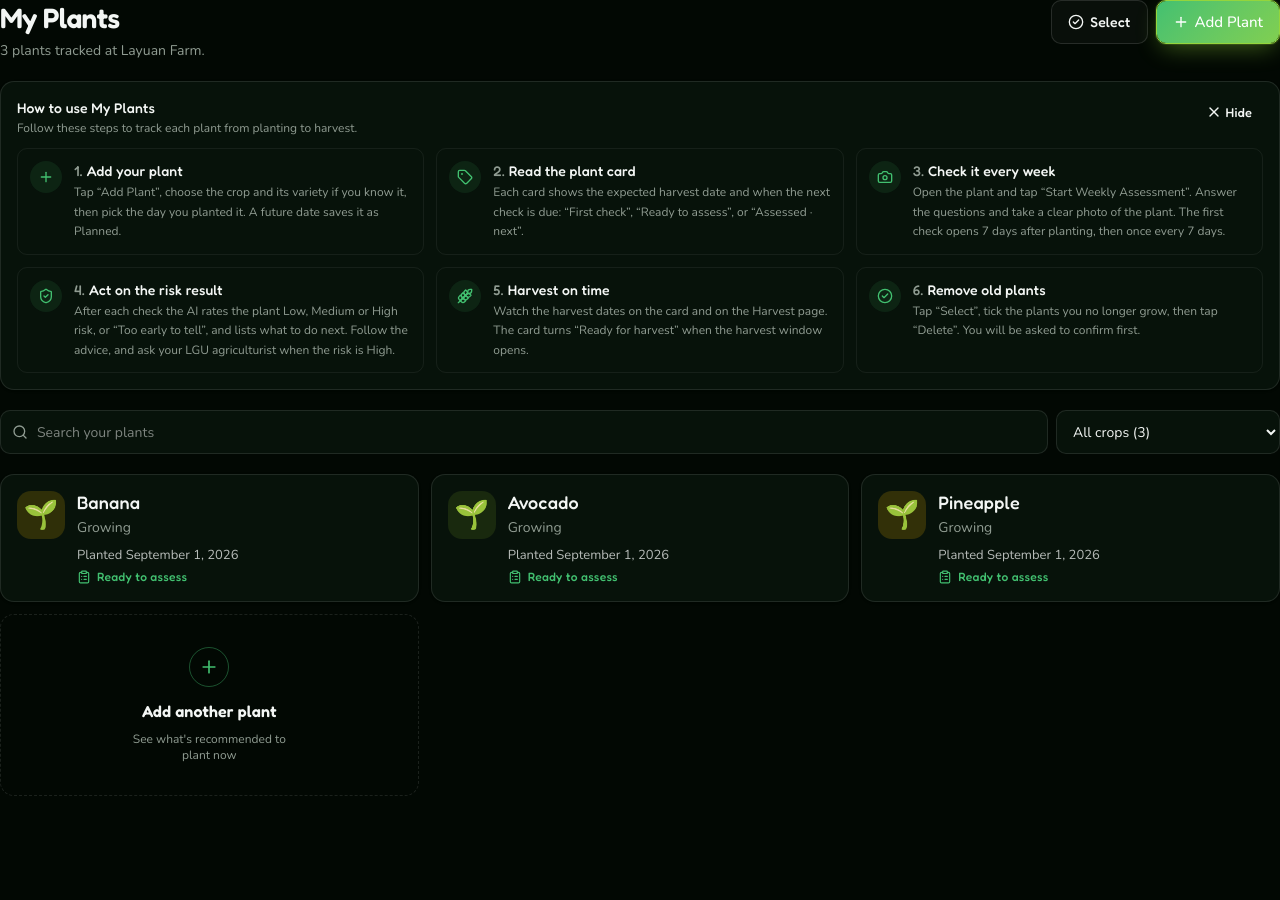
Scenario: My Plants › deletes the selected plants once confirmed, and says so
The width and height of the screenshot is (1280, 900).
Click the button "Select" at [1099, 22], box [1051,0,1148,44]
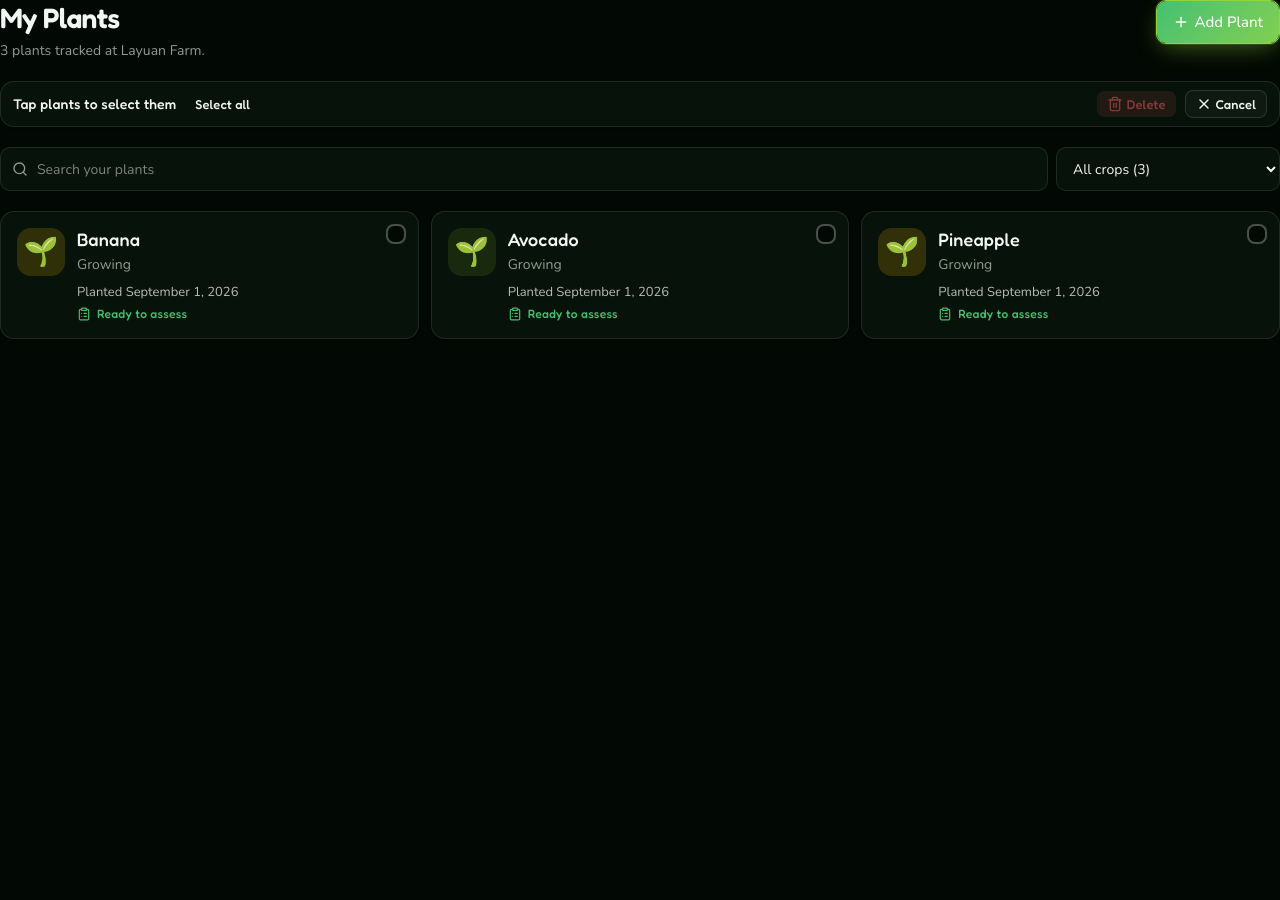
Click the checkbox named "Select Banana" at [209, 275], box [0,211,419,339]
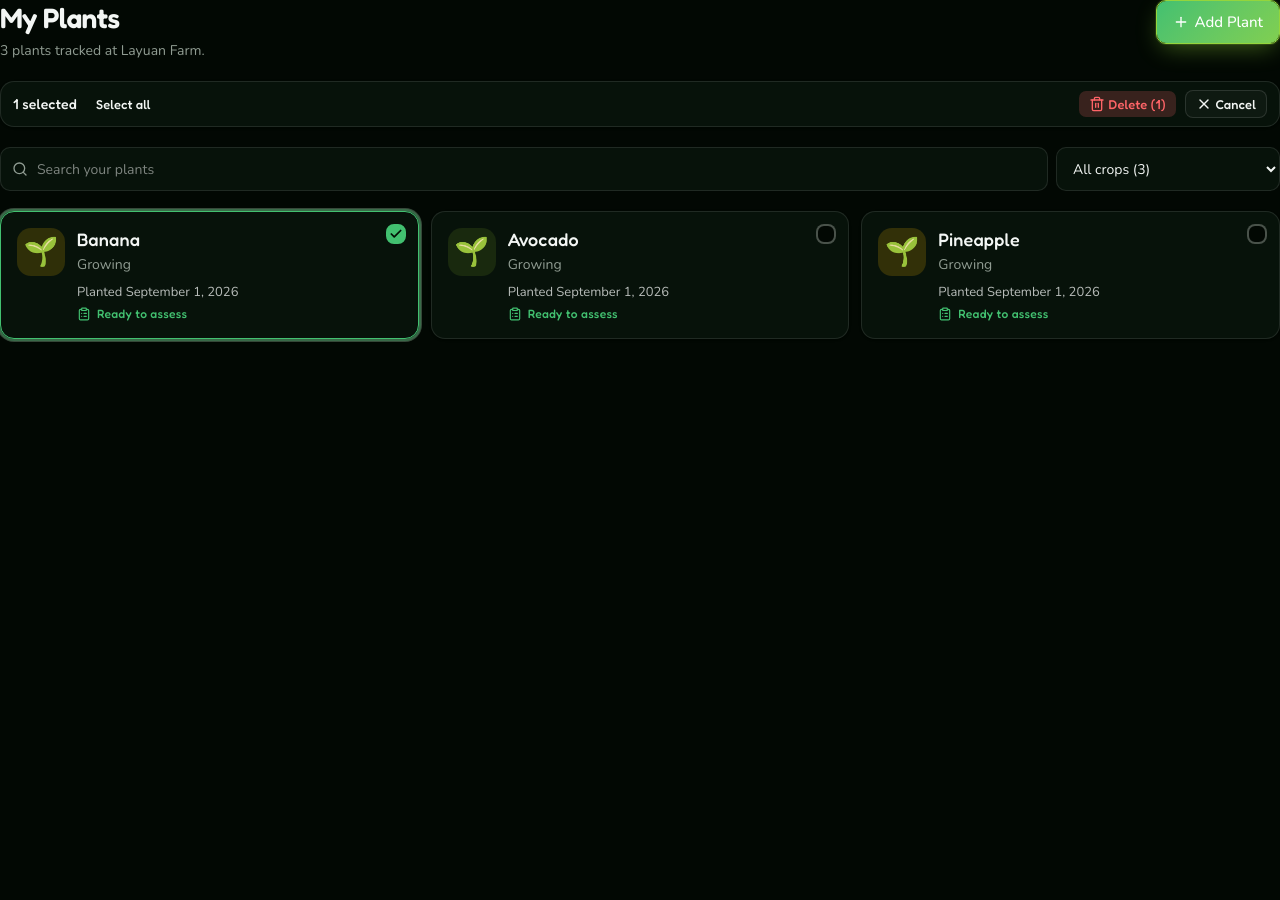
Click the checkbox named "Select Pineapple" at [1071, 275], box [861,211,1279,339]
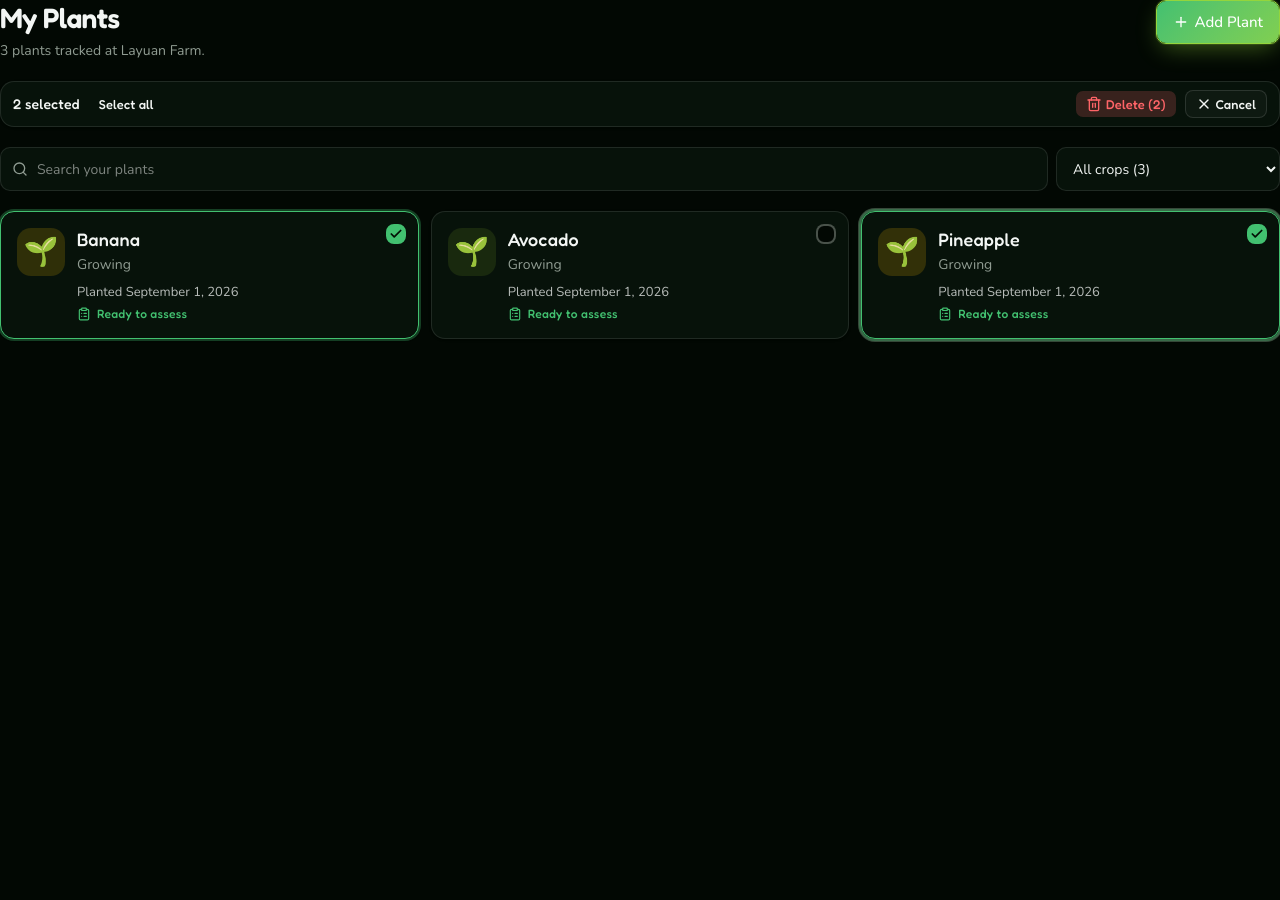
Click the button "Delete (2)" at [1126, 104], box [1075,90,1176,118]
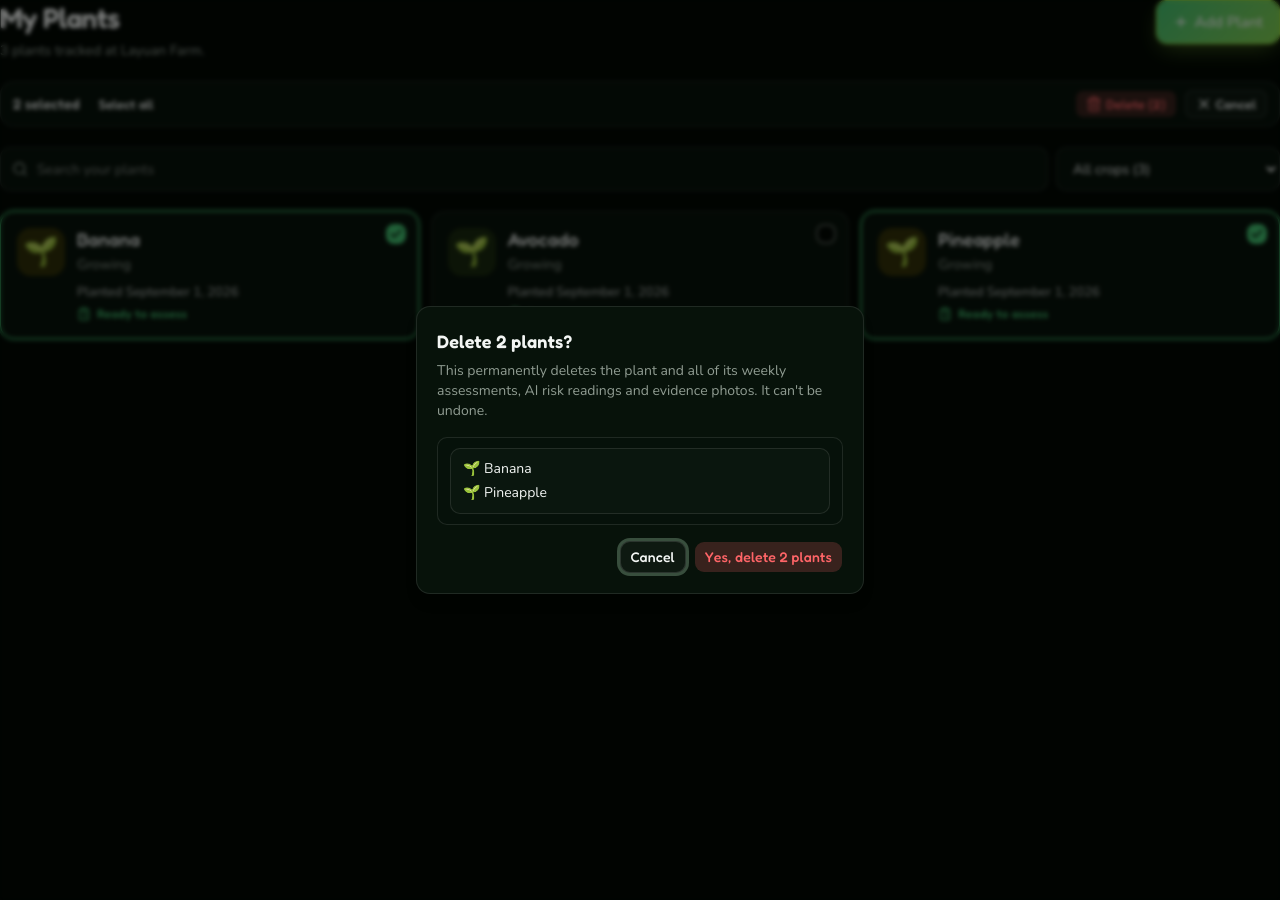
Click the button "Yes, delete 2 plants" at [768, 557], box [694,541,843,573]
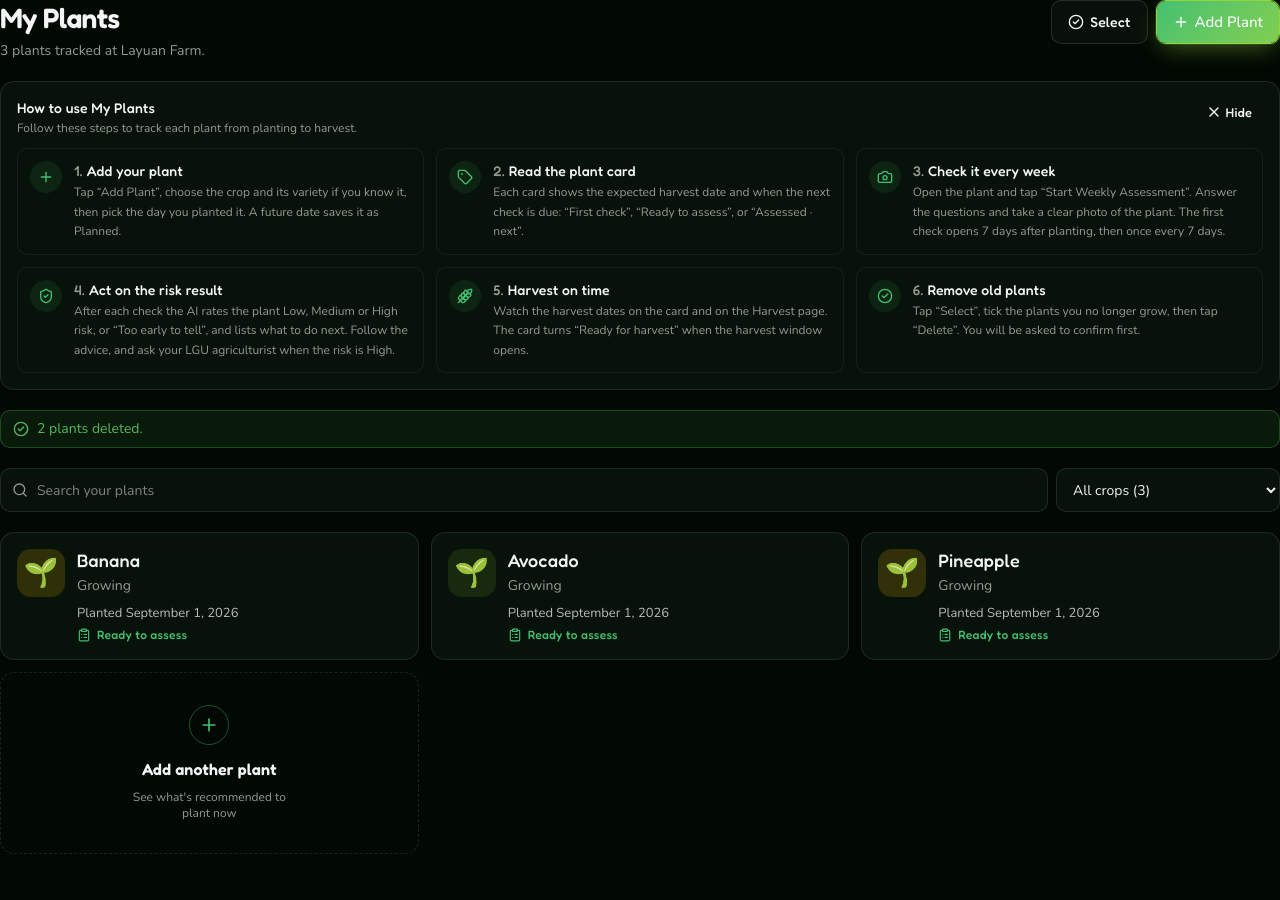
Expected: the text "2 plants deleted." is shown, [0,410,1279,448]
Expected: the dialog is gone
